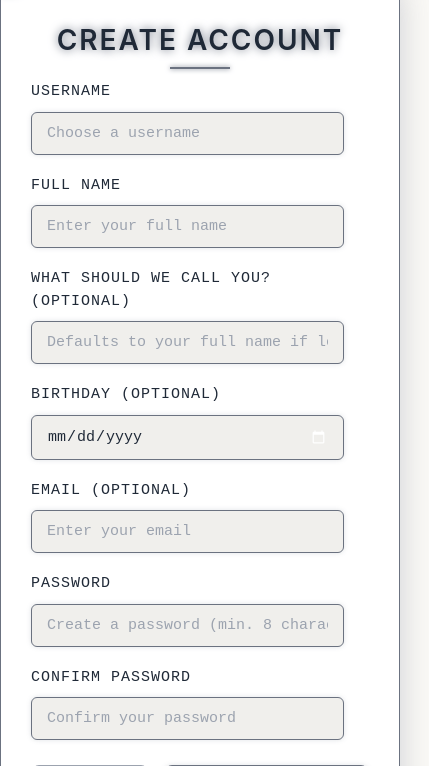
Scenario: RegisterForm › Validation › should show error when passwords do not match
Type "testuser" into the field labelled "Username" at {"x": 188, "y": 133}, box [31,112,344,154]
Type "Test User" into the field labelled "Full Name" at {"x": 188, "y": 226}, box [31,205,344,248]
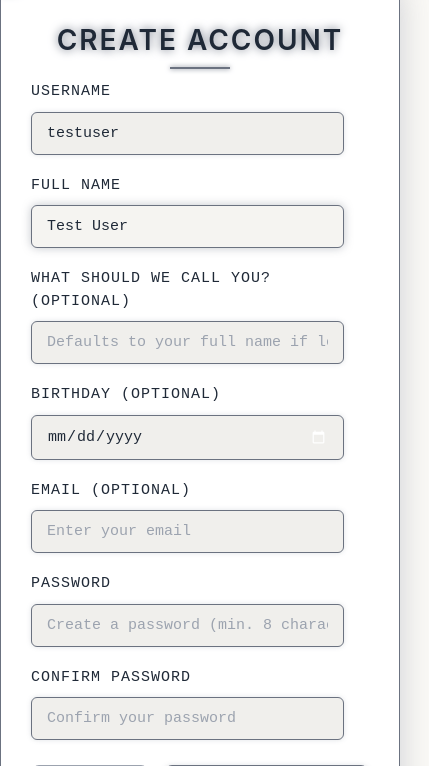
Type "Test" into the field labelled "What should we call you? (optional)" at {"x": 188, "y": 342}, box [31,321,344,364]
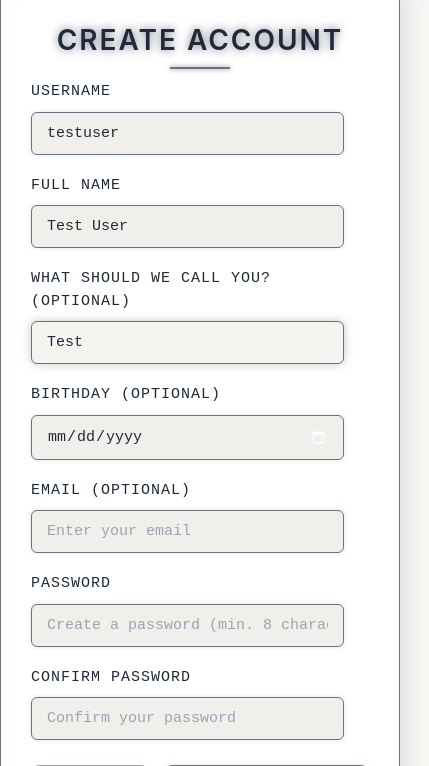
Type "1990-01-01" into the date field labelled "Birthday (optional)" at {"x": 188, "y": 437}, box [31,414,344,460]
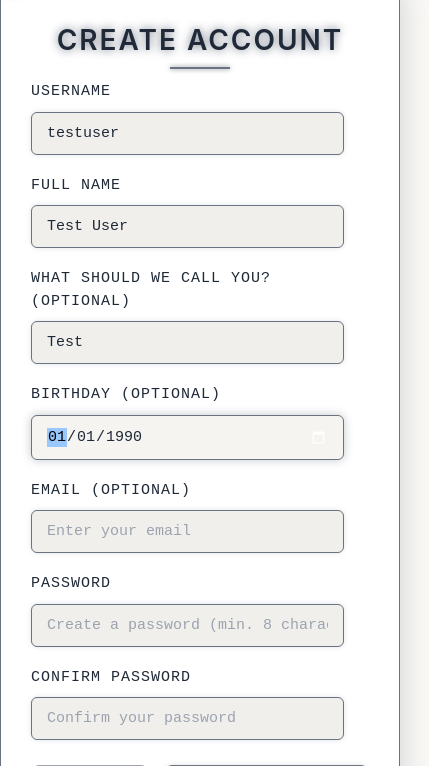
Type "password123" into the password field labelled "Password" at {"x": 188, "y": 625}, box [31,604,344,646]
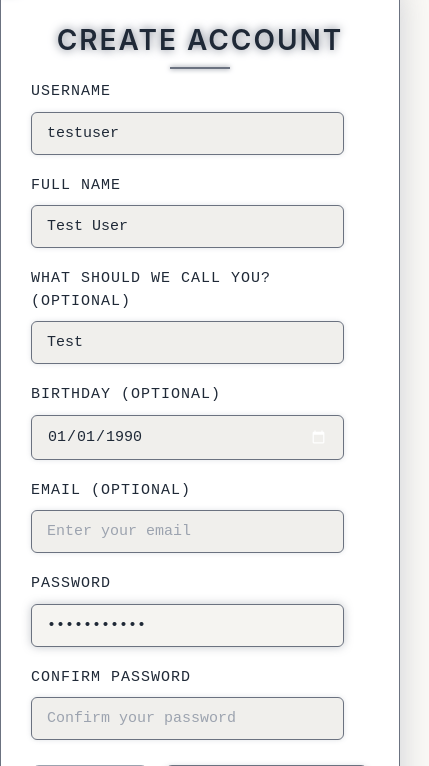
Type "differentpass" into the password field labelled "Confirm Password" at {"x": 188, "y": 718}, box [31,697,344,740]
(page scrolled)
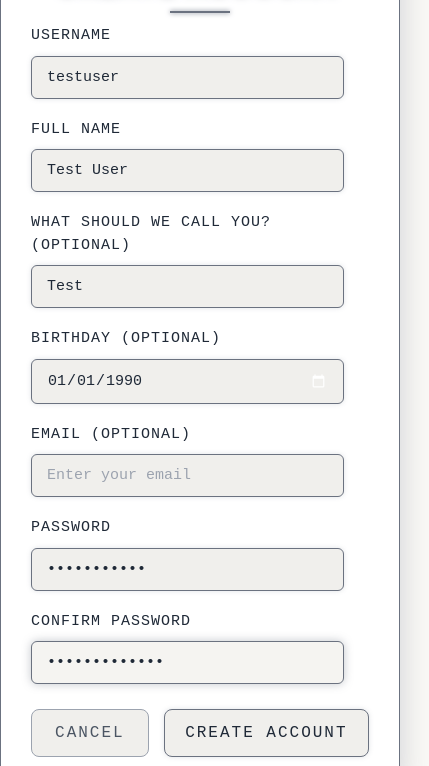
Click the button "Create Account" at {"x": 266, "y": 733}, box [164,709,369,757]
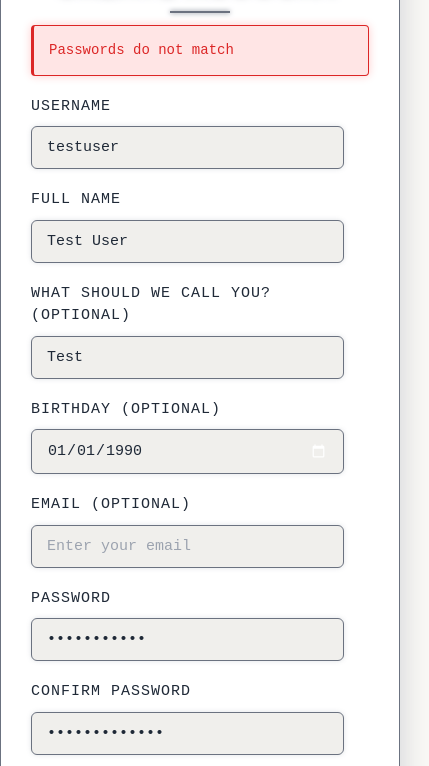
Result: the text "Passwords do not match" is shown at [31,25,369,76]
